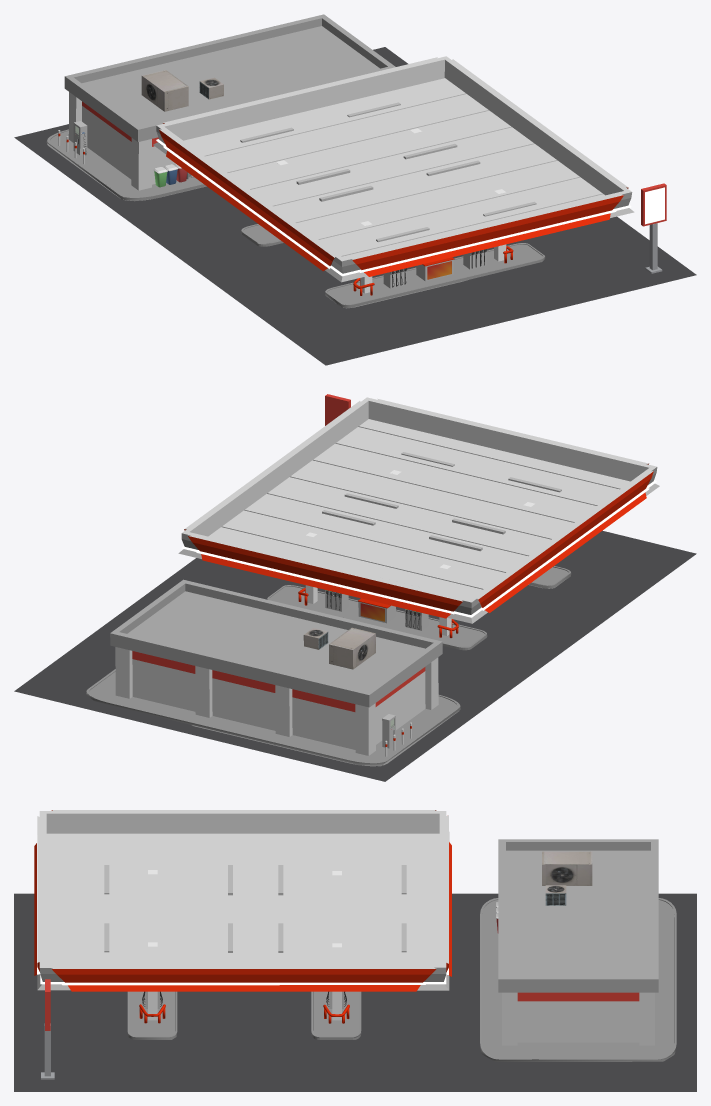
The model's file is tankstelle_lod1.glb.
3 views of the same model, one above another, from view 1: azimuth 30°, elevation 25°; view 2: azimuth 150°, elevation 25°; view 3: azimuth 270°, elevation 25° (orthographic). The views are drawn at different scales.
Parts seen in each view (by area): view 1: Dach, Boden, Shop_Huelle, Inseln, Dachleuchten, Zubehoer, Preistafel_Mast, Aufsteller, preistafel_flaeche; view 2: Dach, Shop_Huelle, Boden, Inseln, Dachleuchten, Aufsteller; view 3: Dach, Boden, Shop_Huelle, Inseln, Dachleuchten, Dachstuetzen, Preistafel_Mast, Poller.
Part boxes in pixels (x1,y1,x2,y2): Dach: [153, 56, 634, 282]; Boden: [14, 47, 696, 365]; Shop_Huelle: [64, 14, 395, 190]; Inseln: [46, 129, 545, 308]; Dachleuchten: [240, 102, 536, 242]; Zubehoer: [73, 121, 193, 187]; Preistafel_Mast: [641, 183, 666, 273]; Aufsteller: [416, 257, 454, 281]; preistafel_flaeche: [645, 187, 664, 224]; Dach: [178, 397, 659, 623]; Shop_Huelle: [110, 579, 442, 755]; Boden: [14, 530, 696, 781]; Inseln: [86, 566, 571, 766]; Dachleuchten: [322, 452, 561, 551]; Aufsteller: [358, 598, 395, 623]; Dach: [34, 810, 451, 991]; Boden: [14, 893, 696, 1091]; Shop_Huelle: [498, 839, 658, 1045]; Inseln: [127, 898, 676, 1061]; Dachleuchten: [104, 865, 406, 952]; Dachstuetzen: [148, 870, 341, 1020]; Preistafel_Mast: [41, 979, 54, 1079]; Poller: [139, 1004, 349, 1023].
Bounding box in the file's own units: 27.75 × 6.39 × 40.37.
Materials: 44 (10 with a texture image).
